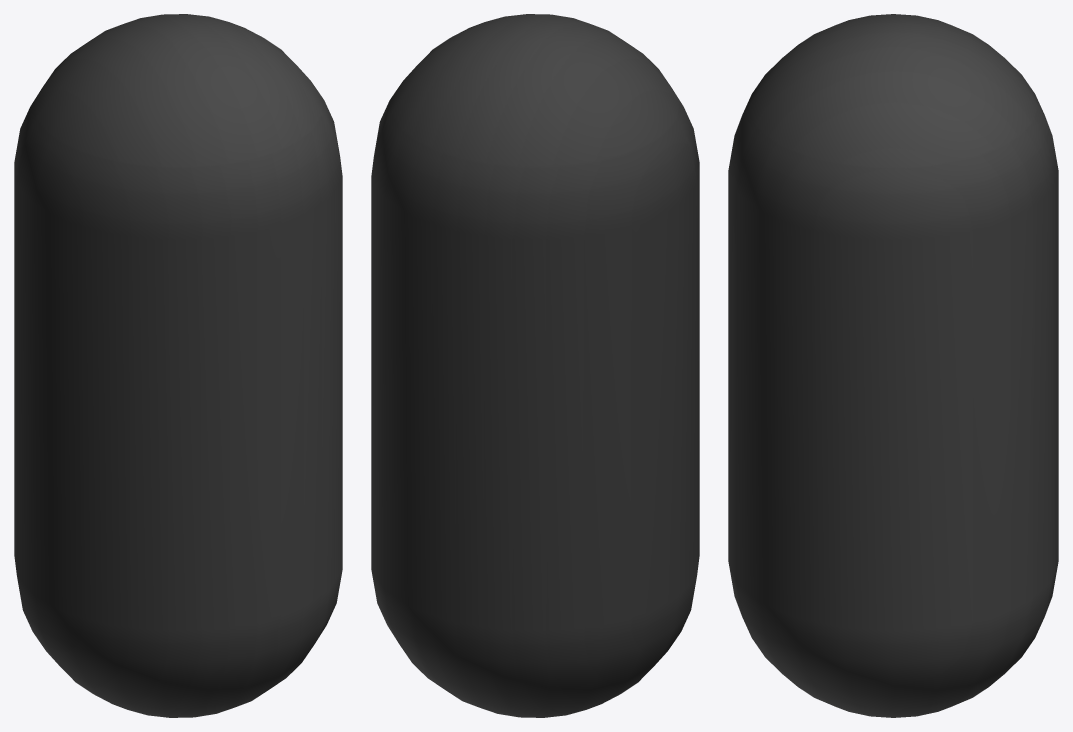
The picture shows the model from 3 angles, left to right: view 1: azimuth 30°, elevation 25°; view 2: azimuth 150°, elevation 25°; view 3: azimuth 270°, elevation 25°; orthographic projection.
Visible parts, largest first — view 1: capsule.1; view 2: capsule.1; view 3: capsule.1.
Part boxes in pixels (x1,y1,x2,y2): capsule.1: (14,14,342,717); capsule.1: (371,14,699,717); capsule.1: (728,14,1058,717).
Size of the model in its own units: 0.0622 by 0.14 by 0.0622.
Materials: 1 (1 with a texture image).
